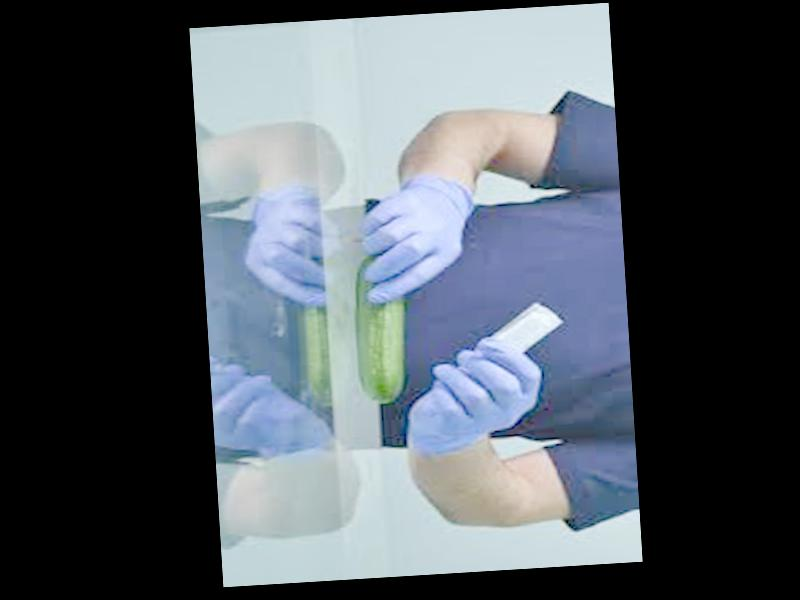Cucumber: (350, 255, 409, 405)
